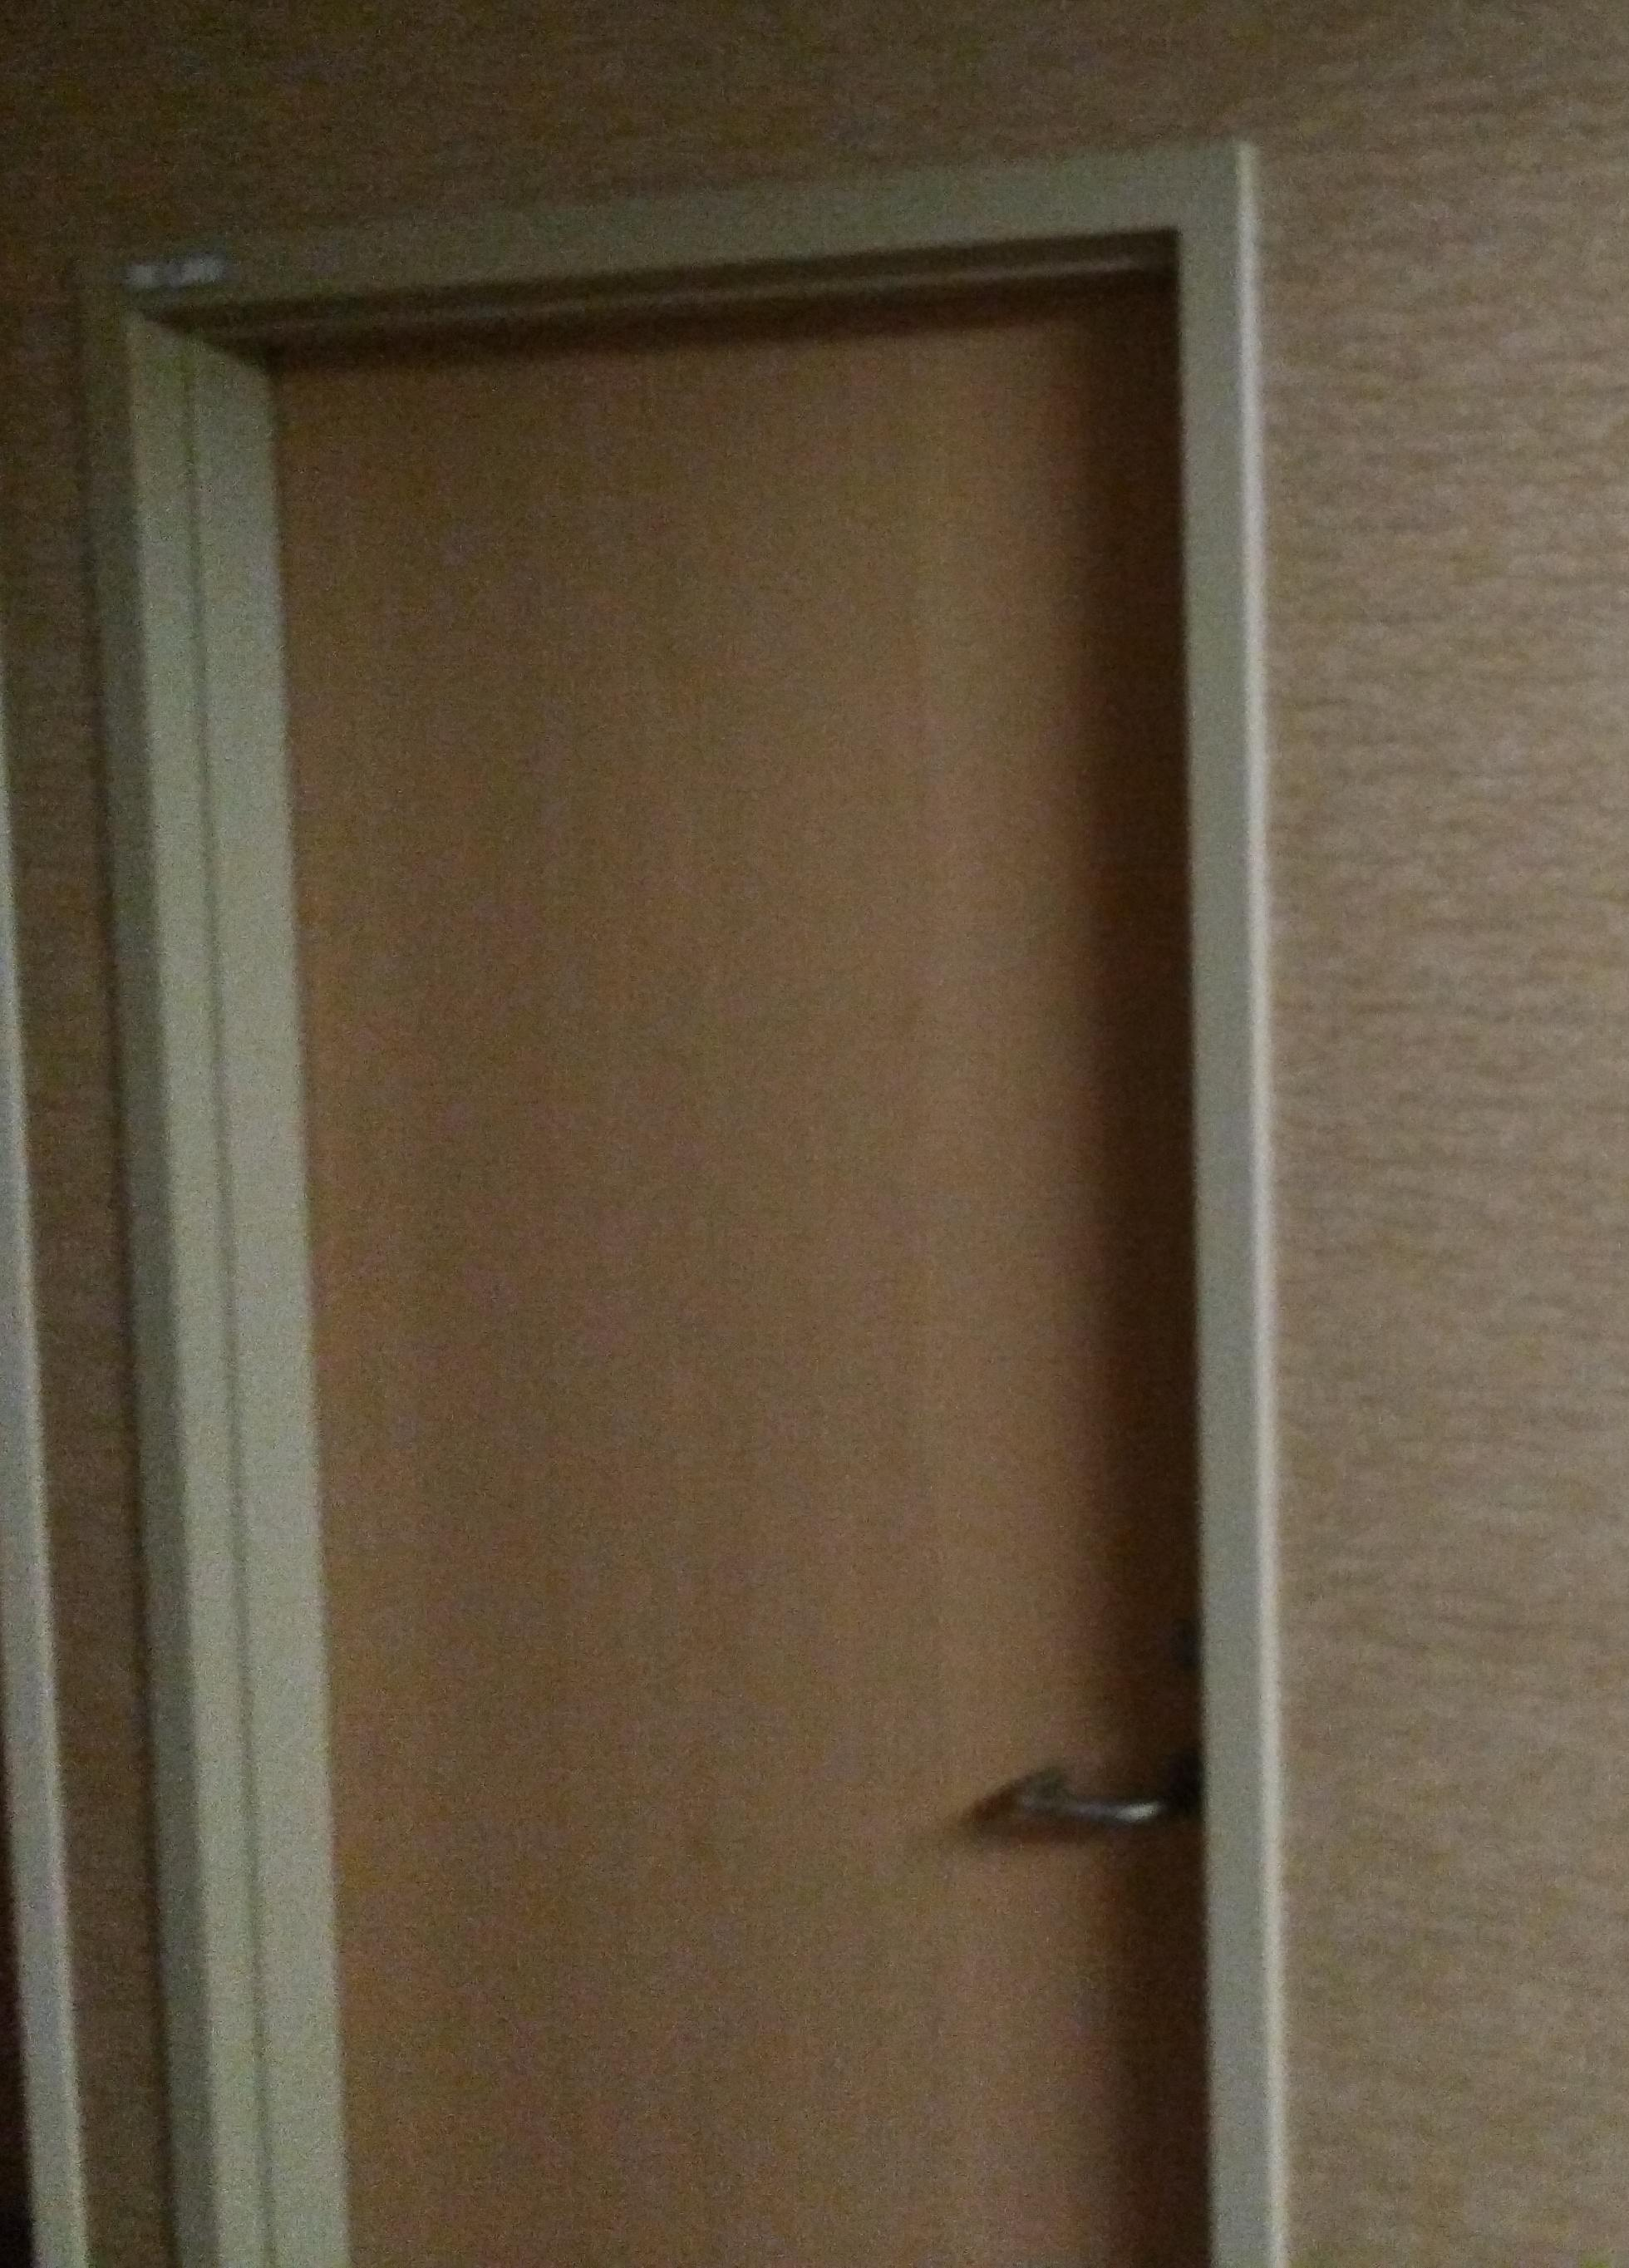door: (234, 264, 1199, 2261)
